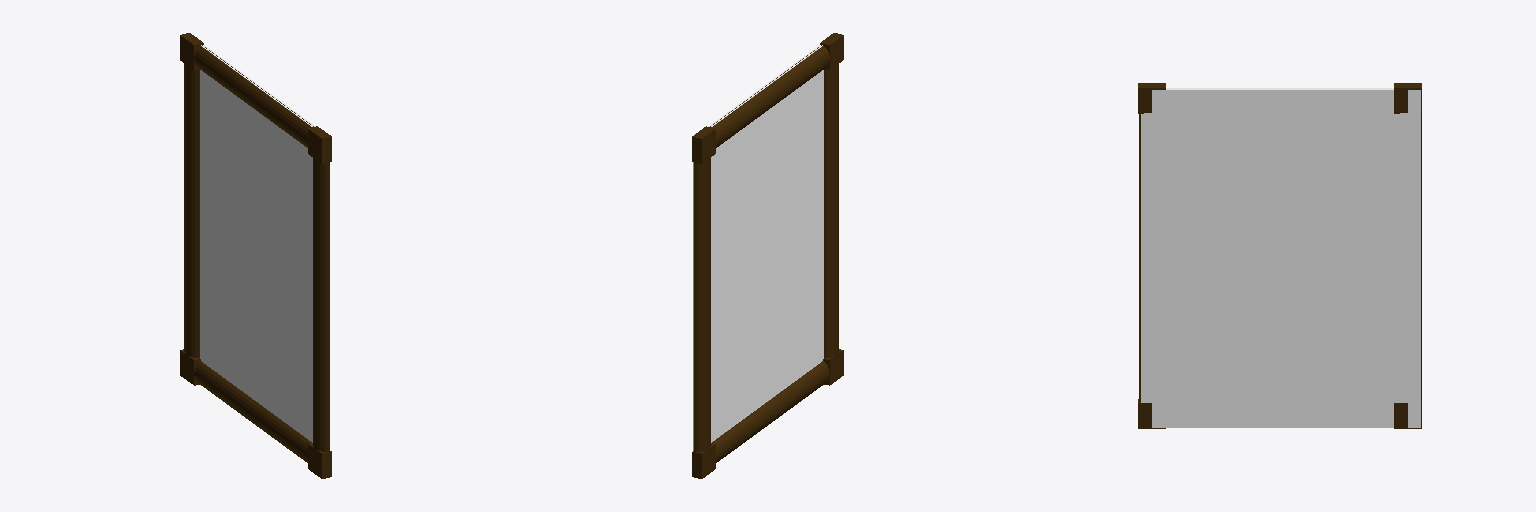
File: pictureFrameTemplate.obj
3 renders of one model, left to right at view 1: azimuth 30°, elevation 25°; view 2: azimuth 150°, elevation 25°; view 3: azimuth 270°, elevation 25°, orthographic.
Parts seen in each view (by area): view 1: pCube1, pasted__pasted__pCylinder1 pasted__group group7, pasted__pCylinder1 group, group9 pasted__pasted__pasted__pasted__pCylinder1 pasted__pasted, pasted__pasted__pasted__pCylinder1 pasted__pasted__group pasted_, pasted__pasted__pCube2 pasted__group7 group9, group7 pasted__pCube2, group9 pasted__pCube2; view 2: pCube1, pasted__pCylinder1 group, pasted__pasted__pCylinder1 pasted__group group7, group9 pasted__pasted__pasted__pasted__pCylinder1 pasted__pasted, pasted__pasted__pasted__pCylinder1 pasted__pasted__group pasted_, group9 pasted__pCube2, pCube2, pasted__pasted__pCube2 pasted__group7 group9; view 3: pCube1, pasted__pasted__pCylinder1 pasted__group group7, group9 pasted__pCube2.
Boxes of the visible parts, x1,y1,x2,y2 form: pCube1: [200, 45, 315, 442]; pasted__pasted__pCylinder1 pasted__group group7: [313, 158, 329, 451]; pasted__pCylinder1 group: [184, 64, 199, 357]; group9 pasted__pasted__pasted__pasted__pCylinder1 pasted__pasted: [192, 45, 320, 151]; pasted__pasted__pasted__pCylinder1 pasted__pasted__group pasted_: [192, 361, 320, 466]; pasted__pasted__pCube2 pasted__group7 group9: [308, 126, 331, 163]; group7 pasted__pCube2: [308, 443, 331, 478]; group9 pasted__pCube2: [180, 33, 203, 70]; pCube1: [693, 45, 823, 450]; pasted__pCylinder1 group: [694, 158, 710, 451]; pasted__pasted__pCylinder1 pasted__group group7: [824, 64, 838, 357]; group9 pasted__pasted__pasted__pasted__pCylinder1 pasted__pasted: [710, 45, 842, 147]; pasted__pasted__pasted__pCylinder1 pasted__pasted__group pasted_: [712, 361, 842, 462]; group9 pasted__pCube2: [692, 126, 715, 163]; pCube2: [692, 443, 715, 478]; pasted__pasted__pCube2 pasted__group7 group9: [820, 33, 843, 70]; pCube1: [1141, 88, 1420, 427]; pasted__pasted__pCylinder1 pasted__group group7: [1139, 114, 1140, 401]; group9 pasted__pCube2: [1394, 83, 1421, 113].
Size of the model in its own units: 0.0306 by 1.01 by 0.7613.